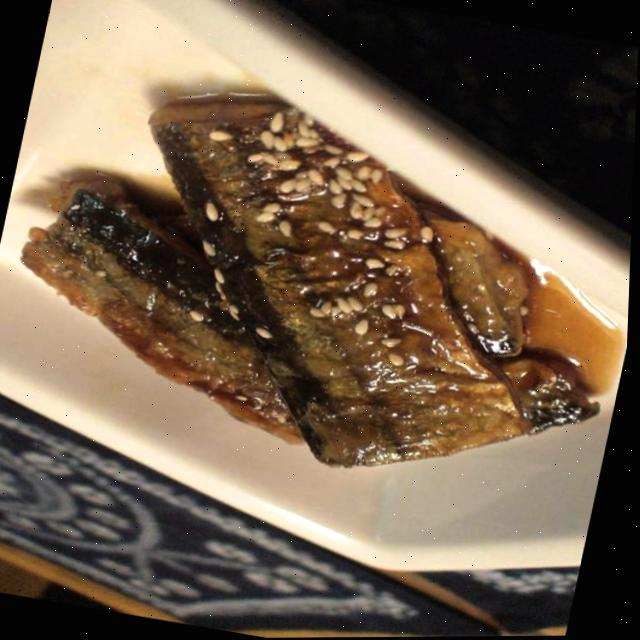熟制海鲜: (0, 37, 639, 540)
